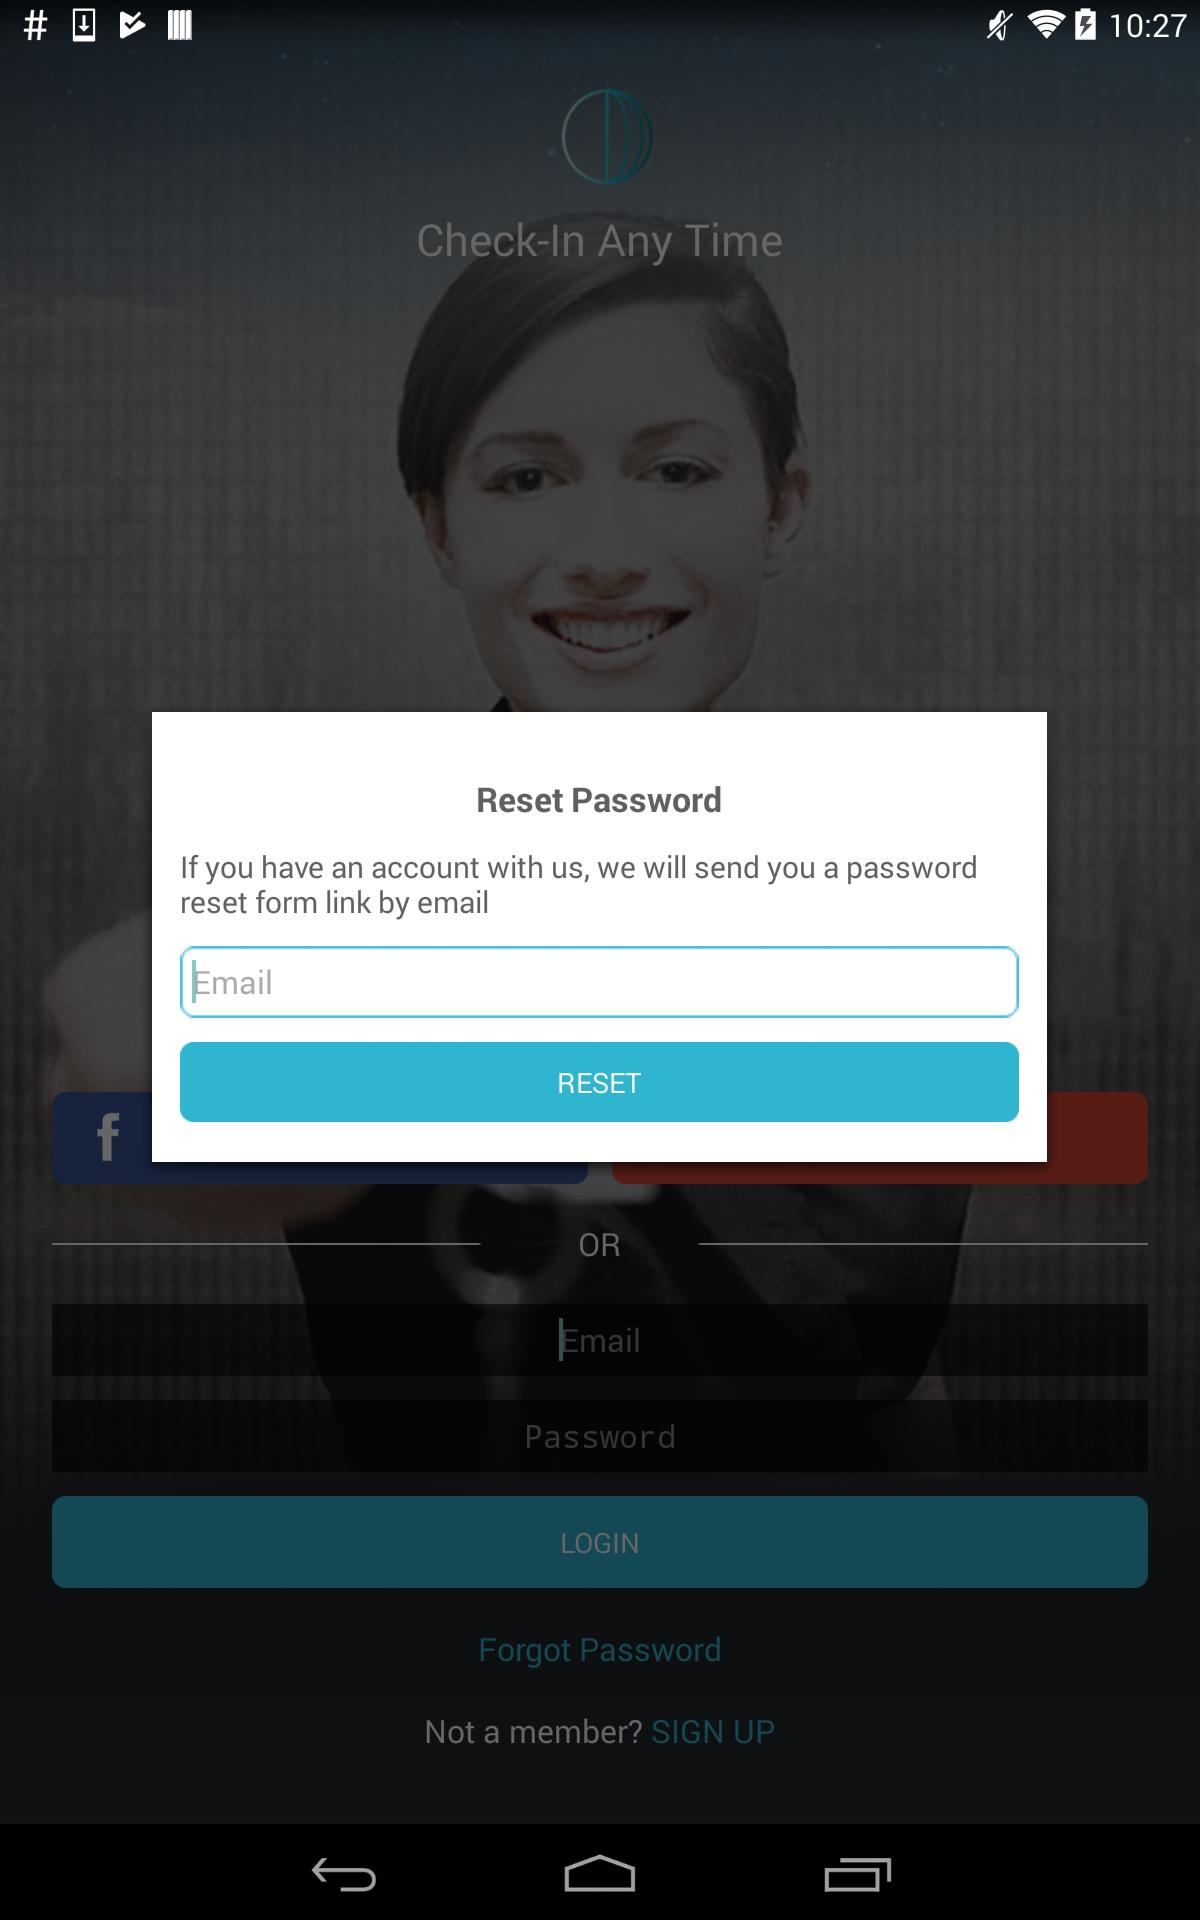android.widget.Button: (180, 1042, 1019, 1122)
android.widget.EditText: (180, 945, 1019, 1017)
android.widget.FrameLayout: (120, 697, 1078, 1178), (135, 697, 1063, 1178), (152, 712, 1047, 1163)
android.widget.LinearLayout: (135, 697, 1063, 1178), (152, 712, 1047, 1163)
android.widget.TextView: (180, 846, 1019, 922), (476, 775, 722, 822)
